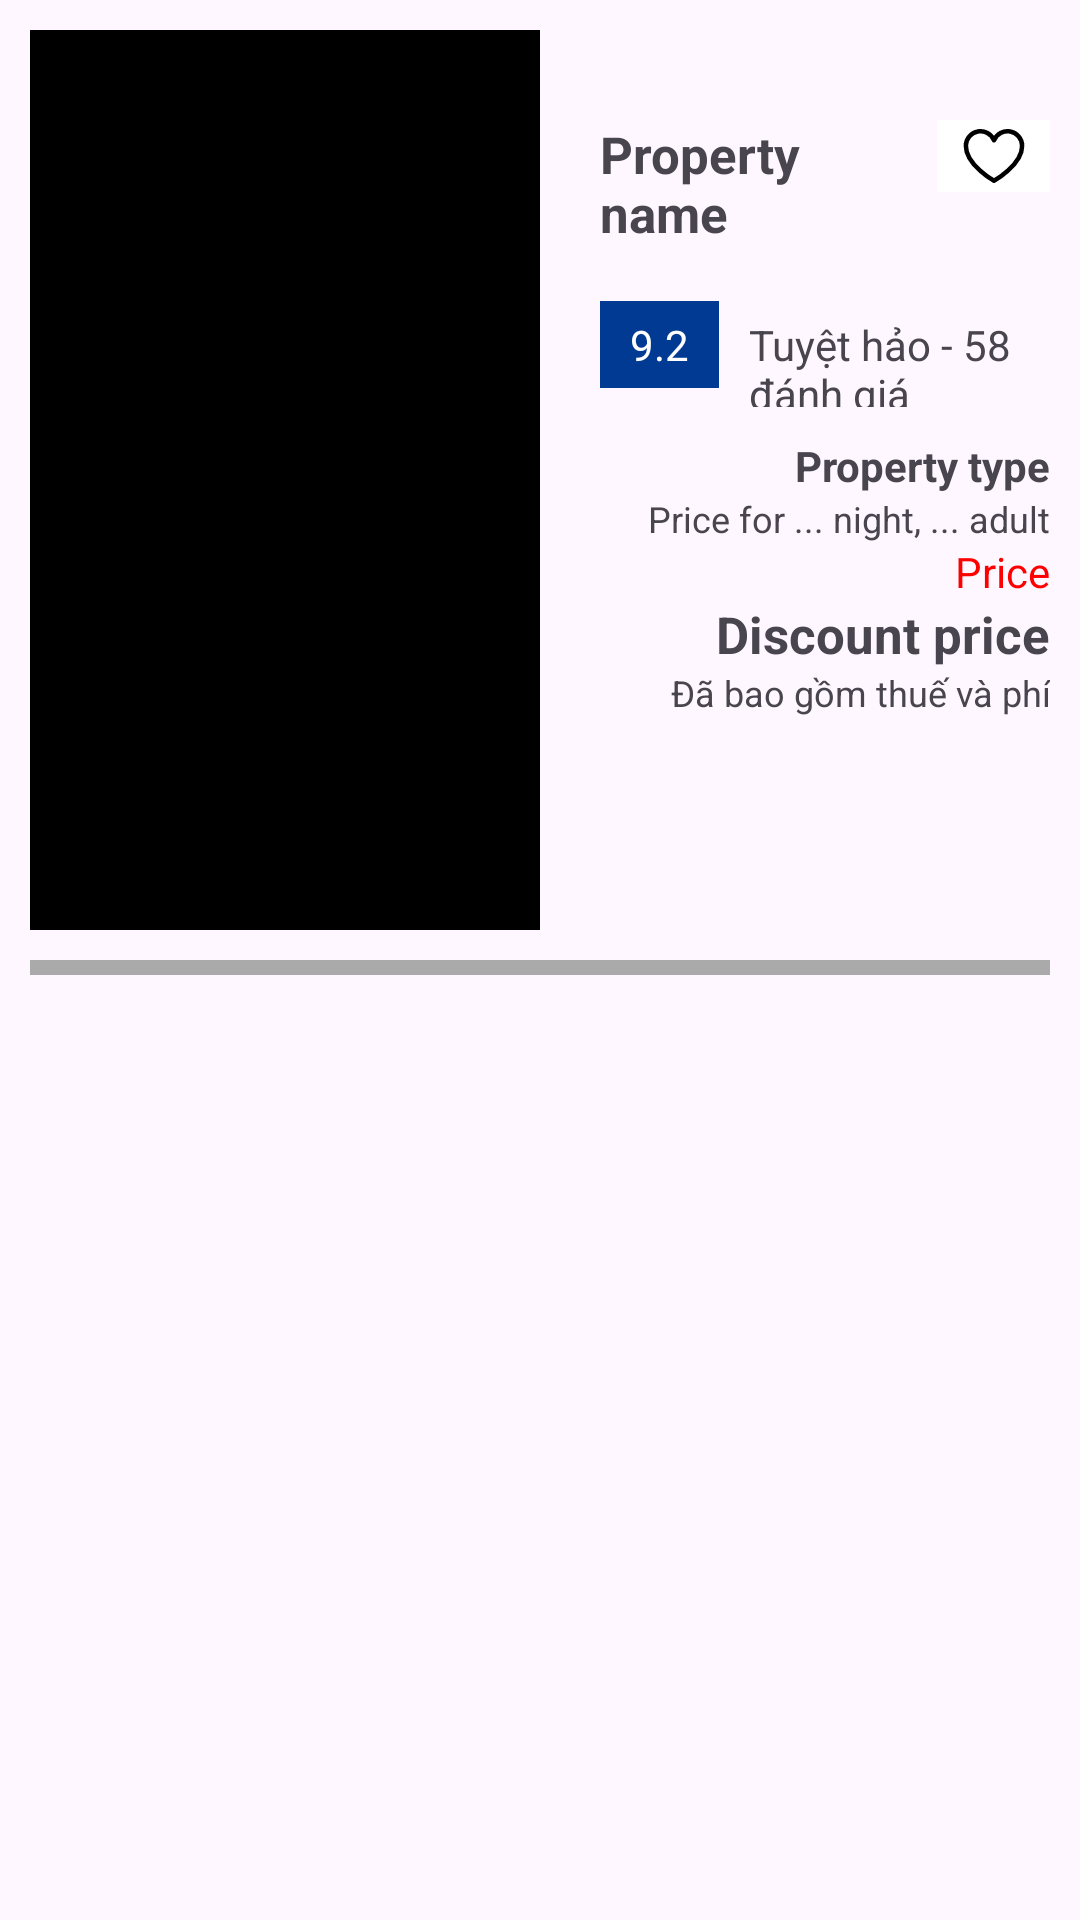

Where icons sit on this 1080*1920 app screen, as (x1, y1, x2, y2):
heart: (963, 129, 1025, 183)
